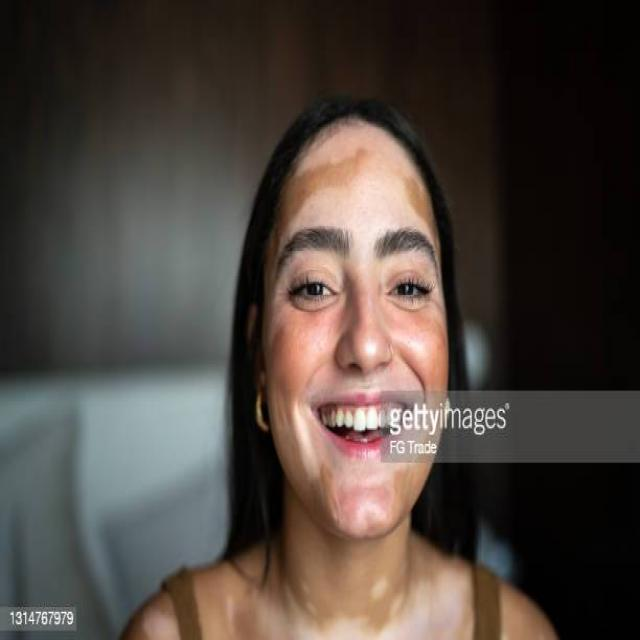vitiligo: (266, 130, 456, 626)
